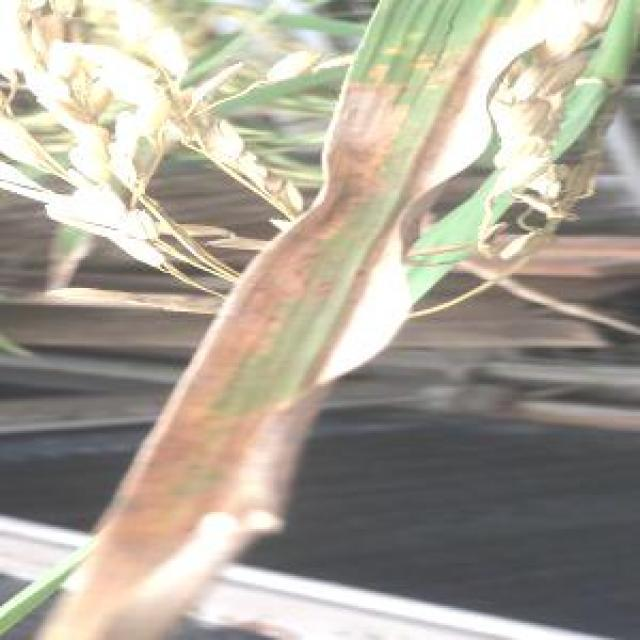Rice_Bacterial_Blight: (307, 0, 472, 382)
